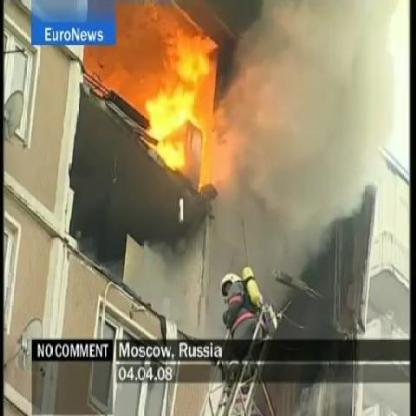fire: (143, 32, 218, 169)
